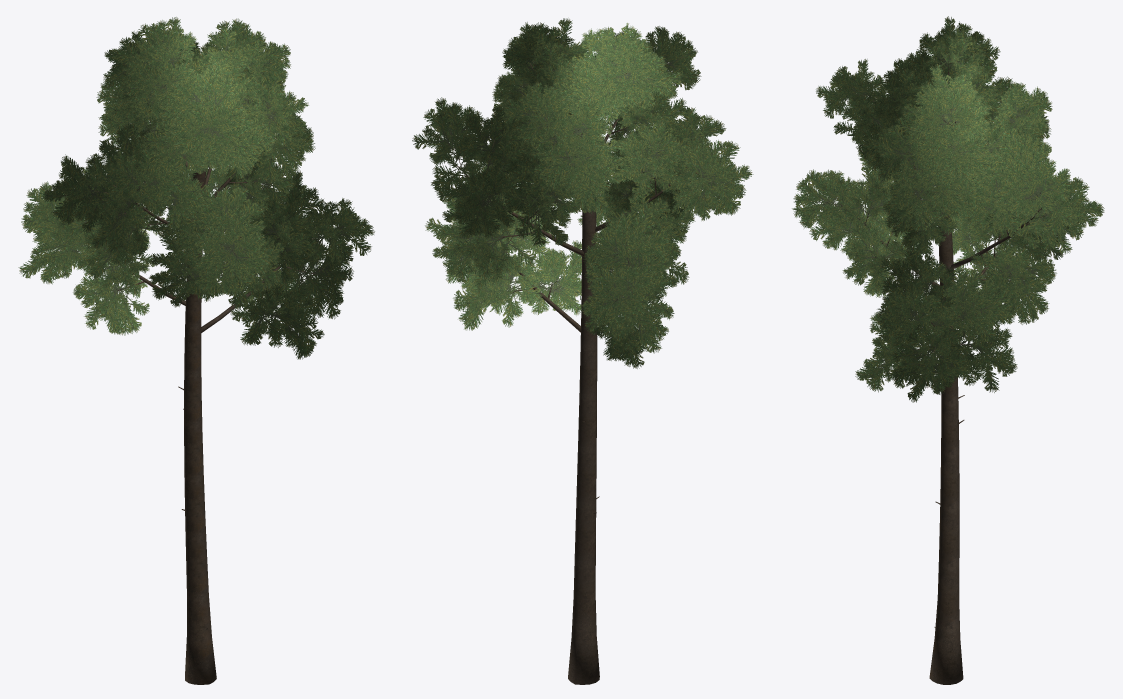
File: pine_open_v01.fbx
The picture shows the model from 3 angles, left to right: view 1: azimuth 30°, elevation 25°; view 2: azimuth 150°, elevation 25°; view 3: azimuth 270°, elevation 25°; orthographic projection. The views are drawn at different scales.
Visible parts, largest first — view 1: pine_open_v01; view 2: pine_open_v01; view 3: pine_open_v01.
Part boxes in pixels (bbox=[...]): pine_open_v01: bbox=[18, 17, 374, 684]; pine_open_v01: bbox=[412, 18, 753, 684]; pine_open_v01: bbox=[792, 16, 1104, 684].
Size of the model in its own units: 897 by 839 by 1848.
Materials: 2 (2 with a texture image).
